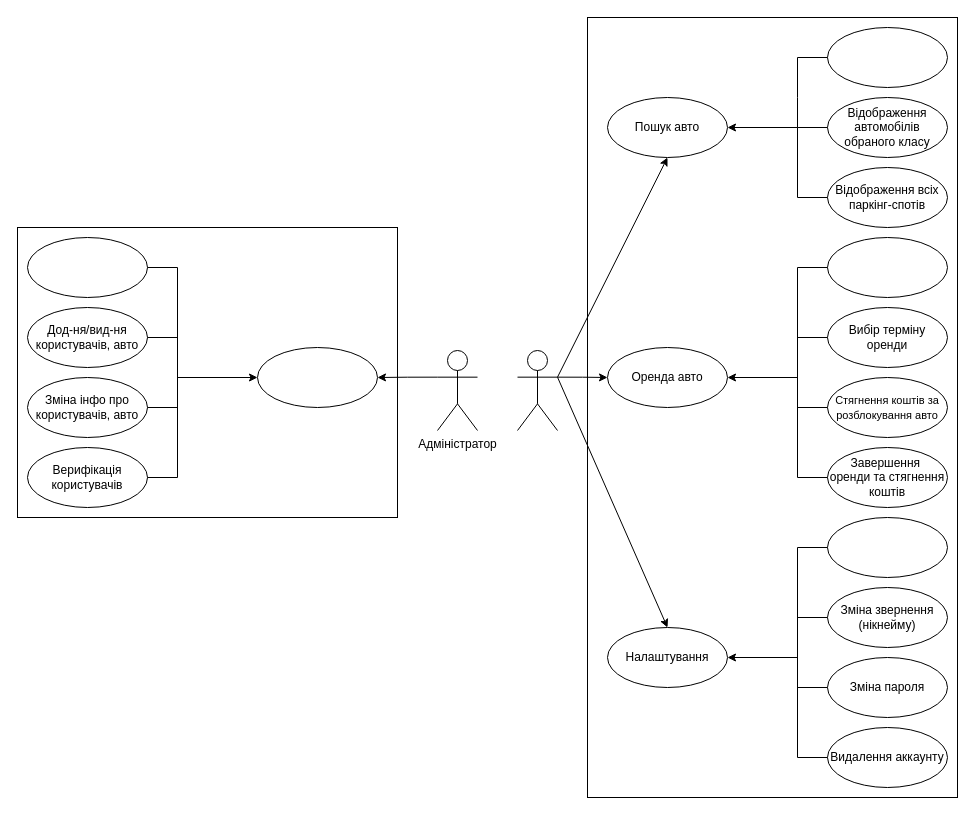
This 975x815 diagram has some shape labels left out. The shapes that lost their labels are listed below. From the top down, each one's centre as x and y in pixels, then its label:
At (x=887, y=57): "Фільтрування авто за класом".
At (x=87, y=267): "Пошук інфо про користувачів, авто".
At (x=887, y=267): "Повторна верифікація вод. посвідчення".
At (x=317, y=377): "Адмін-панель".
At (x=537, y=390): "Користувач".
At (x=887, y=547): "Зміна мови інтерфейсу".
